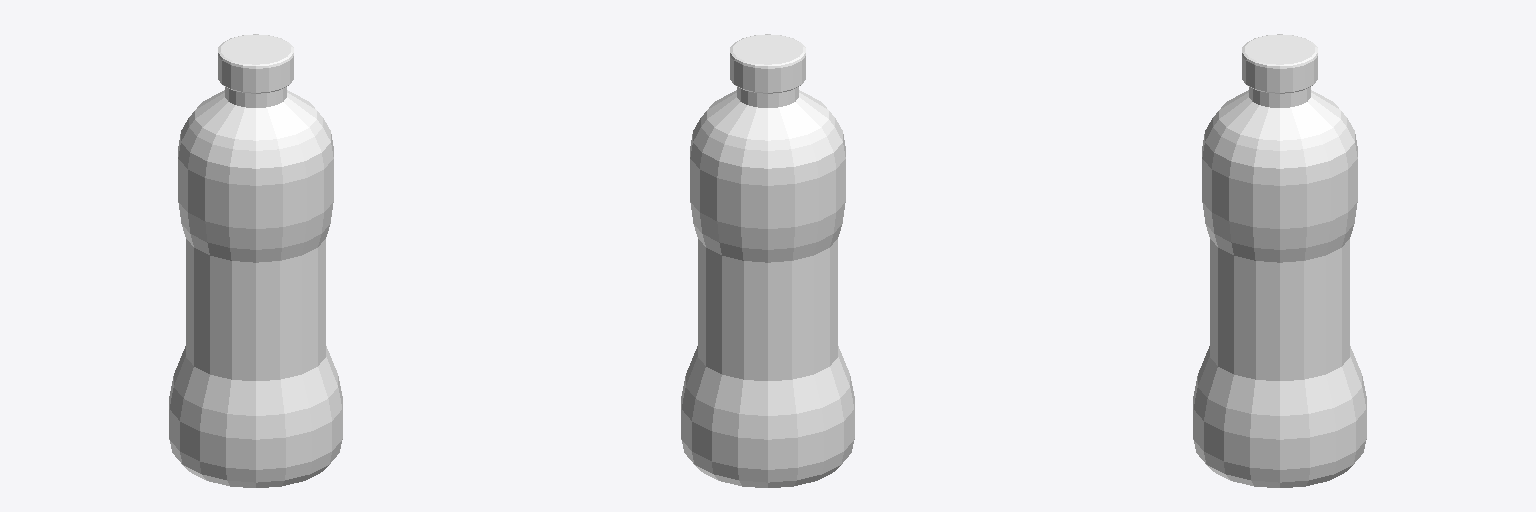
The model's file is water_bottle.obj.
3 views of the same model, side by side, from view 1: azimuth 30°, elevation 25°; view 2: azimuth 150°, elevation 25°; view 3: azimuth 270°, elevation 25° (orthographic).
Parts seen in each view (by area): view 1: Water_Bottle; view 2: Water_Bottle; view 3: Water_Bottle.
Part boxes in pixels (x1,y1,x2,y2): Water_Bottle: (169,34,342,487); Water_Bottle: (681,34,854,487); Water_Bottle: (1193,34,1366,487).
Size of the model in its own units: 28.09 by 72.77 by 27.66.